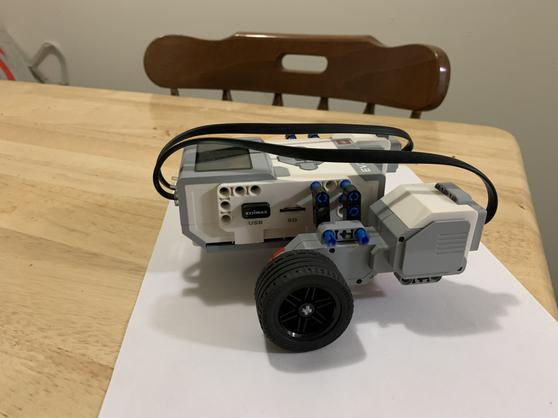robot: (150, 123, 504, 351)
